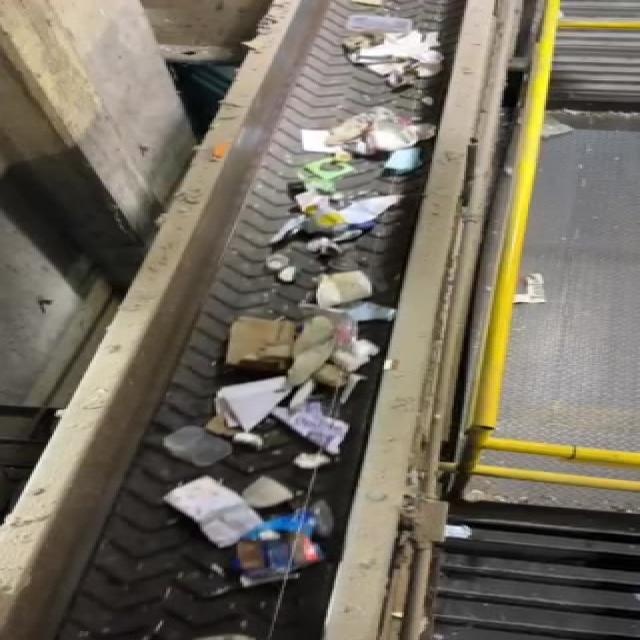paper: (144, 479, 280, 554)
pet: (229, 522, 343, 596)
pp: (152, 425, 240, 476)
